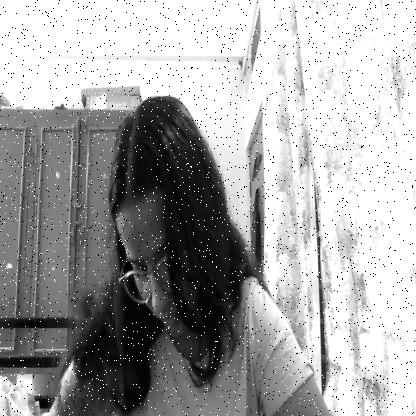Distracted: (112, 182, 188, 340)
